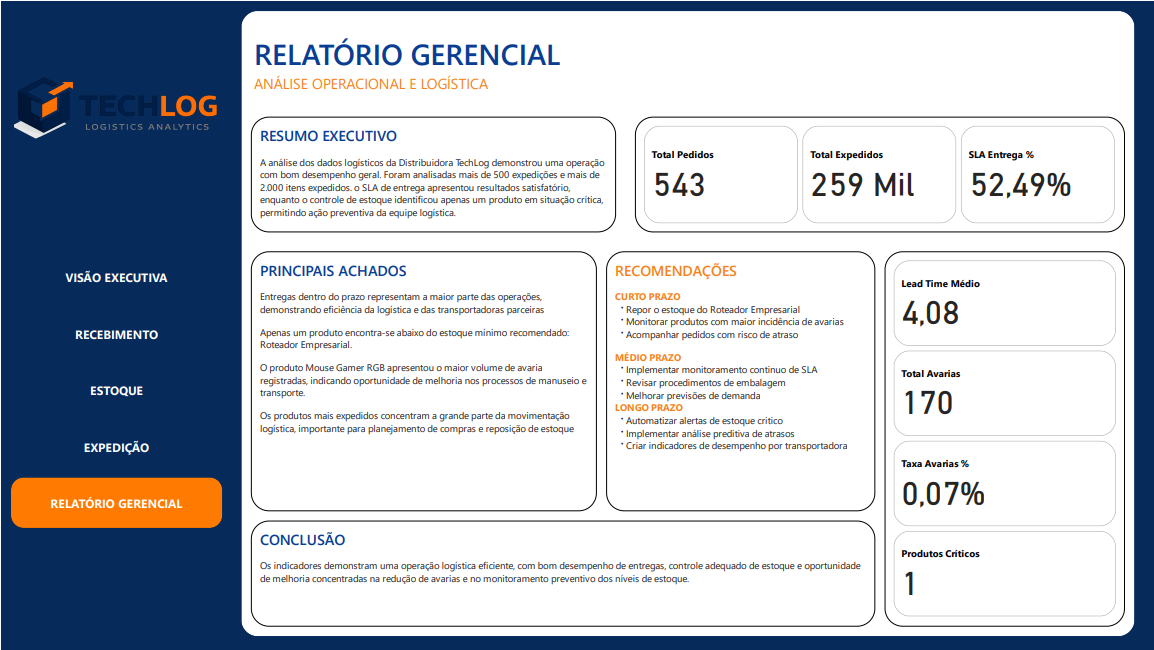

This screenshot's page, from the dashboard's own definition file:
{"tool":"powerbi","page":{"name":"RELATÓRIO GERENCIAL","canvas":[1920,1080],"ordinal":4},"visuals":[{"type":"pageNavigator","box":[16,416,352,464],"z":0},{"type":"image","box":[16,16,352,352],"z":1000},{"type":"shape","box":[400,16,1488,1040],"z":2000},{"type":"textbox","box":[416,32,800,160],"z":3000},{"type":"textbox","box":[416,192,608,192],"z":4000},{"type":"textbox","box":[416,416,16,512],"z":5000},{"type":"textbox","box":[416,416,576,432],"z":6000},{"type":"textbox","box":[1008,416,448,432],"z":7000},{"type":"textbox","box":[416,864,1040,176],"z":8000},{"type":"cardVisual","fields":{"Data":["Medidas.Total Pedidos","Medidas.Total Expedidos","Medidas.SLA Entrega %"]},"box":[1056,192,816,192],"z":9000},{"type":"cardVisual","fields":{"Data":["Medidas.Lead Time Médio","Medidas.Total Avarias","Medidas.Taxa Avarias %","Medidas.Produtos Críticos"]},"box":[1472,416,400,624],"z":10000}]}

Visuals, with their boxes in screenshot pixels (x1, y1, x2, y2), scaled from the page's 1920x1080 canvas onto the 1154x650 screenshot:
pageNavigator: 10/250/221/530
image: 10/10/221/221
shape: 240/10/1135/636
textbox: 250/19/731/116
textbox: 250/116/615/231
textbox: 250/250/260/559
textbox: 250/250/596/510
textbox: 606/250/875/510
textbox: 250/520/875/626
cardVisual - Medidas.Total Pedidos x Medidas.Total Expedidos: 635/116/1125/231
cardVisual - Medidas.Lead Time Médio x Medidas.Total Avarias: 885/250/1125/626
